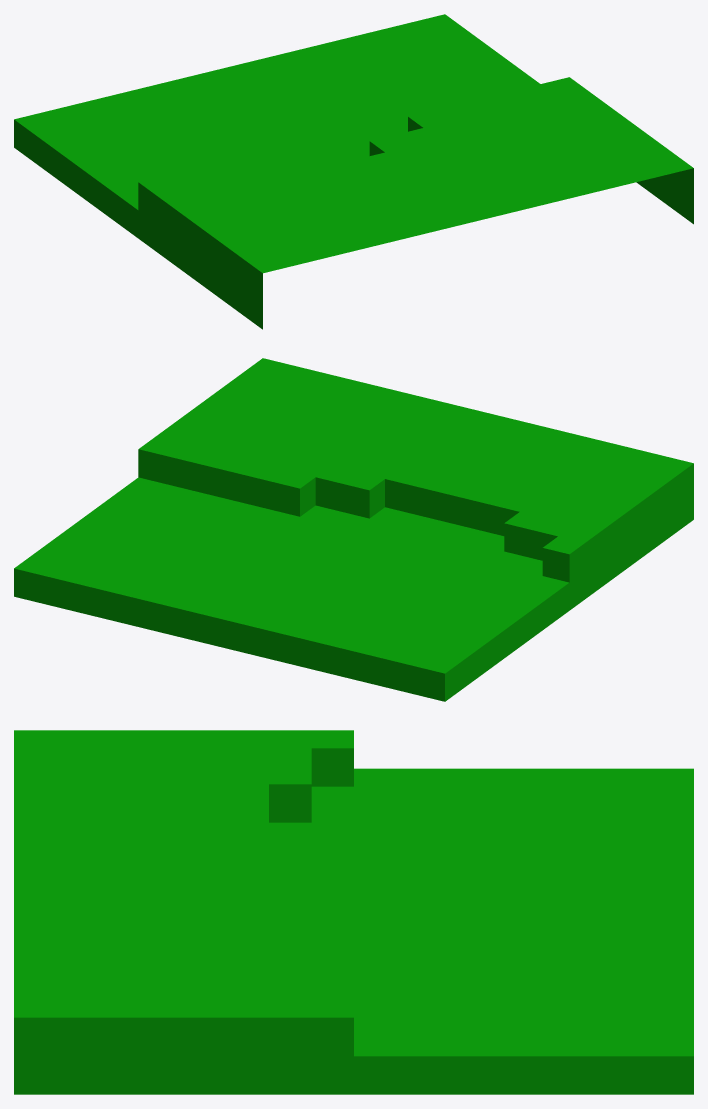
File: Straight2.fbx
The picture shows the model from 3 angles, top to bottom: view 1: azimuth 30°, elevation 25°; view 2: azimuth 150°, elevation 25°; view 3: azimuth 270°, elevation 25°; orthographic projection. The views are drawn at different scales.
Parts seen in each view (by area): view 1: Matrix; view 2: Matrix; view 3: Matrix.
Boxes of the visible parts, box(x1,y1,x2,y2) form: Matrix: box(14, 14, 693, 329); Matrix: box(14, 358, 693, 701); Matrix: box(14, 730, 693, 1094).
Size of the model in its own units: 16 by 2 by 16.
